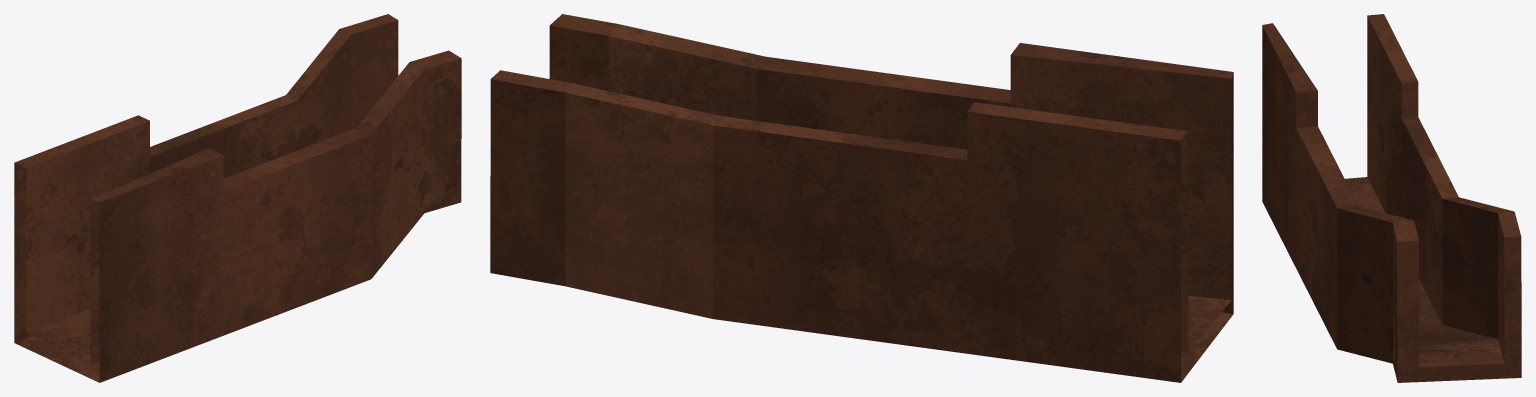
File: Jembatan.fbx
3 renders of one model, left to right at view 1: azimuth 30°, elevation 25°; view 2: azimuth 150°, elevation 25°; view 3: azimuth 270°, elevation 25°, orthographic. The views are drawn at different scales.
Visible parts, largest first — view 1: Fight 5.001; view 2: Fight 5.001; view 3: Fight 5.001.
Part boxes in pixels (x1,y1,x2,y2): Fight 5.001: (14,14,461,382); Fight 5.001: (490,14,1233,382); Fight 5.001: (1262,14,1521,382).
Bounding box in the file's own units: 15927 × 6047 × 8060.
1 material, 1 textured.
